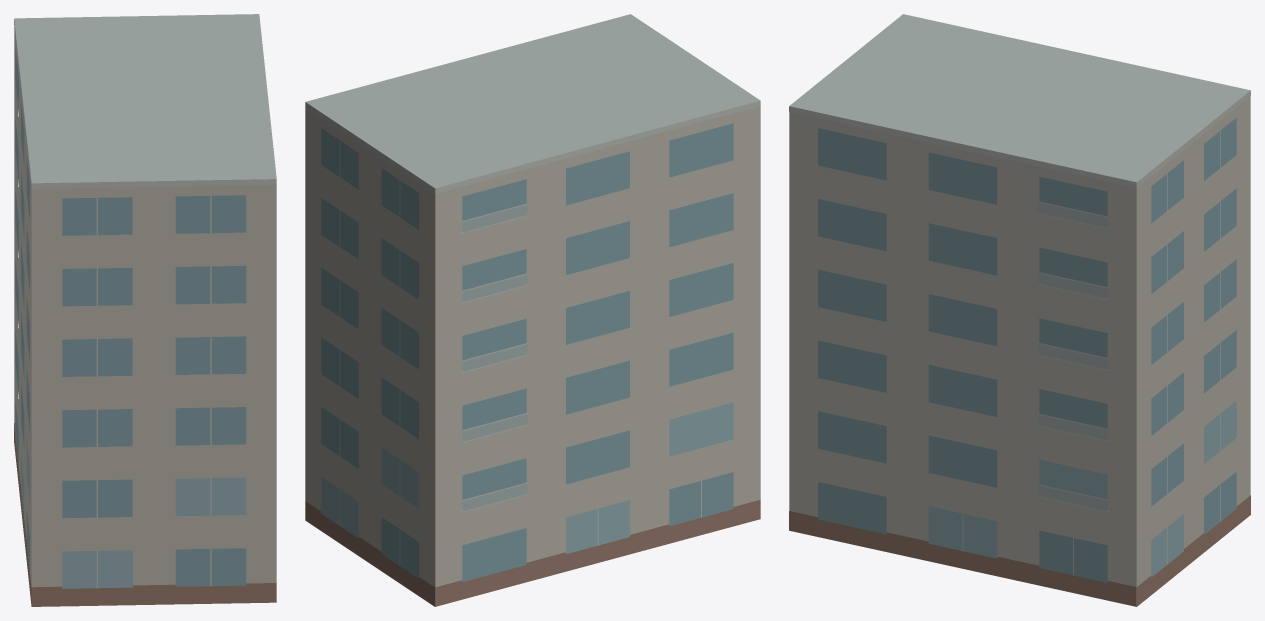
Rendered from survey-upis-32555265.glb.
3 renders of one model, left to right at view 1: azimuth 30°, elevation 25°; view 2: azimuth 150°, elevation 25°; view 3: azimuth 270°, elevation 25°, orthographic.
Visible parts, largest first — view 1: survey-upis-32555265.tmp; view 2: survey-upis-32555265.tmp; view 3: survey-upis-32555265.tmp.
Part boxes in pixels (x1,y1,x2,y2): survey-upis-32555265.tmp: [14, 14, 276, 606]; survey-upis-32555265.tmp: [305, 14, 760, 606]; survey-upis-32555265.tmp: [789, 14, 1250, 606].
Size of the model in its own units: 15.57 by 18.3 by 18.04.
